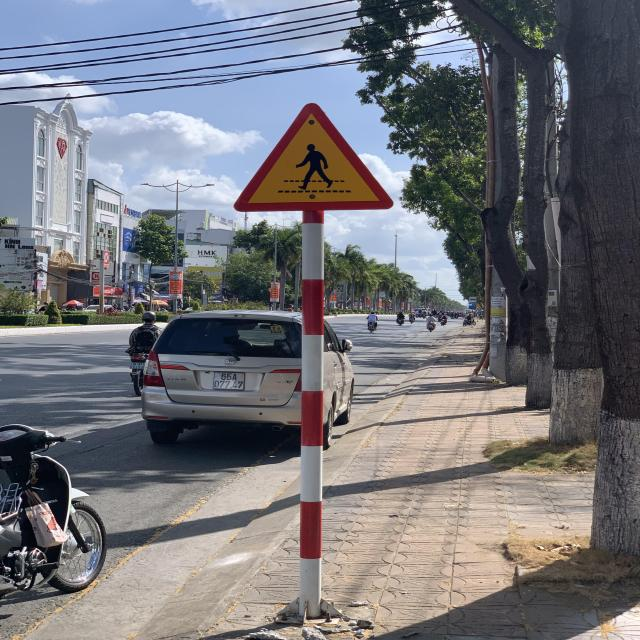Duong_Nguoi_Di_Bo_Sang_Ngang: (233, 102, 394, 212)
